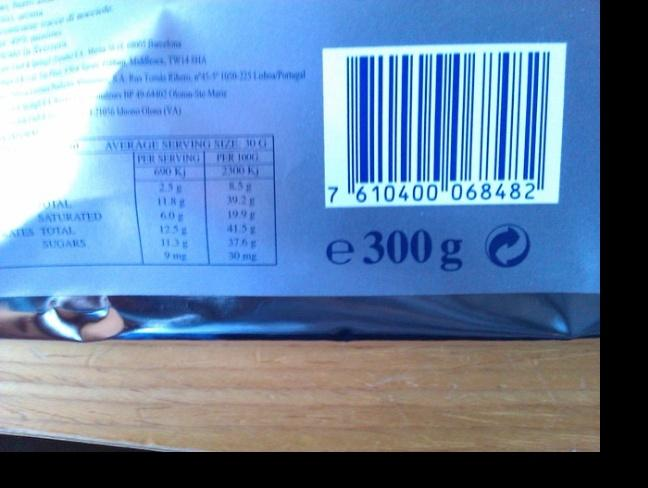Barcode: (325, 49, 557, 209)
